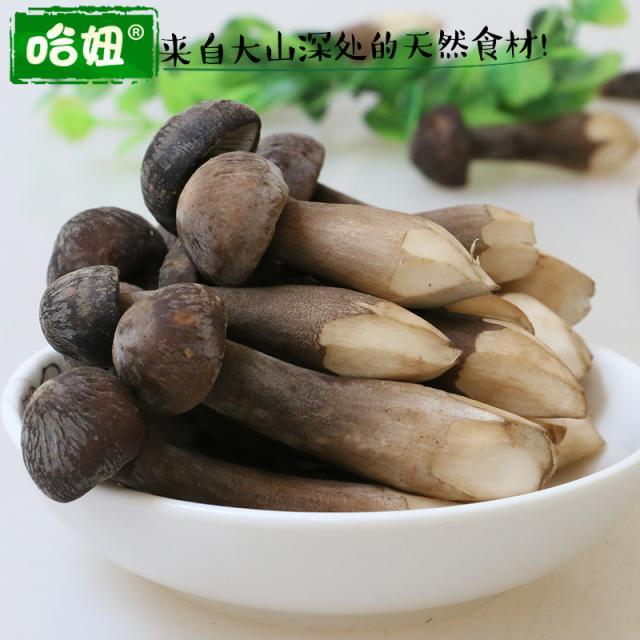Collybia albuminosa: (121, 283, 555, 497), (25, 367, 423, 505), (178, 153, 496, 298), (41, 270, 456, 372)
